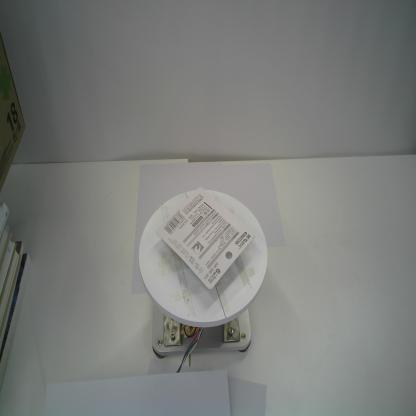Stationery: (155, 186, 255, 291)
